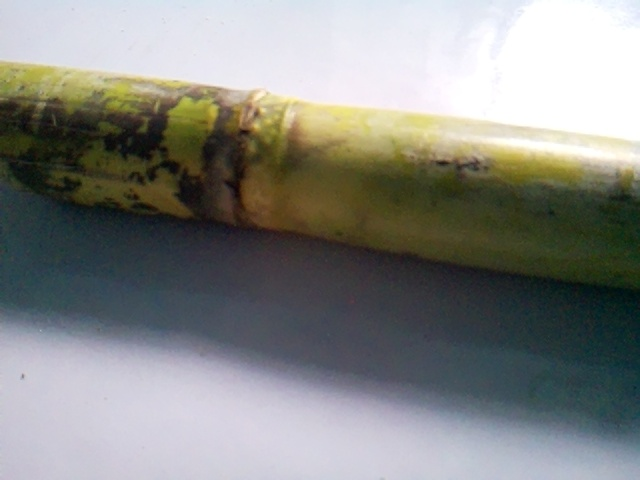Good Sugarcane: (2, 53, 640, 300)
Node: (190, 76, 290, 235)
